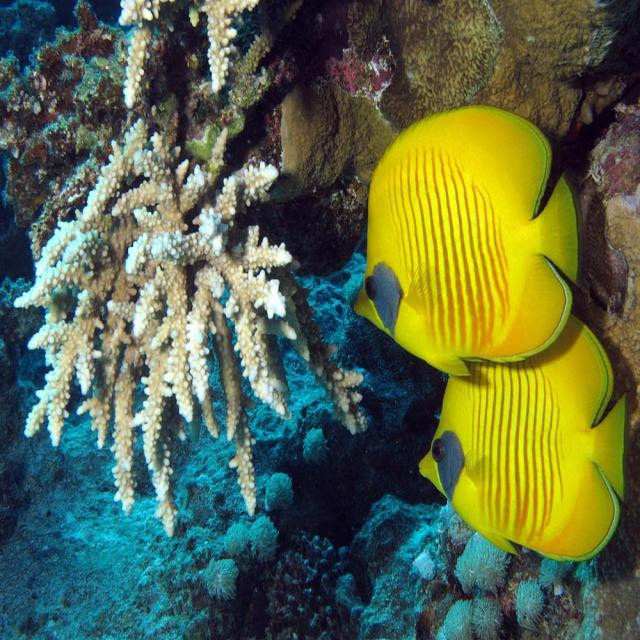ButterflyFish: (351, 109, 580, 369), (417, 317, 624, 565)
